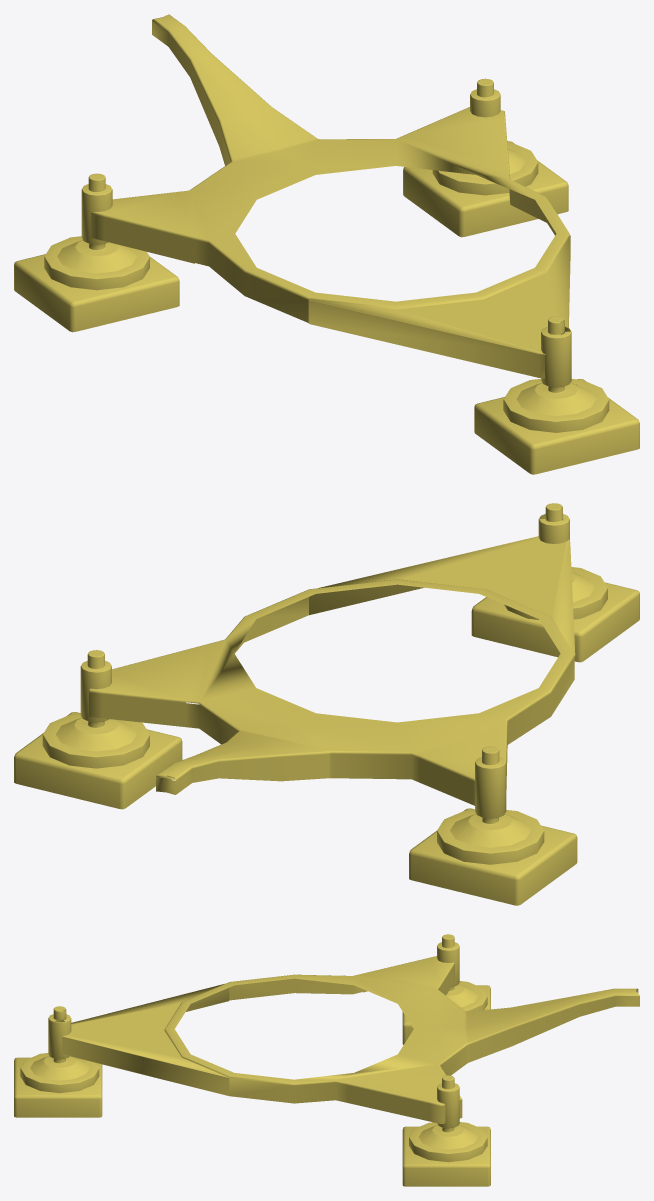
File: Stanina_Lod_!&&&&&&fbx.fbx
3 views of the same model, one above another, from view 1: azimuth 30°, elevation 25°; view 2: azimuth 150°, elevation 25°; view 3: azimuth 270°, elevation 25° (orthographic). The views are drawn at different scales.
Parts seen in each view (by area): view 1: ZU_23_2.001; view 2: ZU_23_2.001; view 3: ZU_23_2.001.
Boxes of the visible parts, bbox=[...] form: ZU_23_2.001: bbox=[14, 14, 639, 474]; ZU_23_2.001: bbox=[14, 503, 639, 905]; ZU_23_2.001: bbox=[14, 934, 639, 1186].
Size of the model in its own units: 1.94 by 0.5214 by 2.84.
